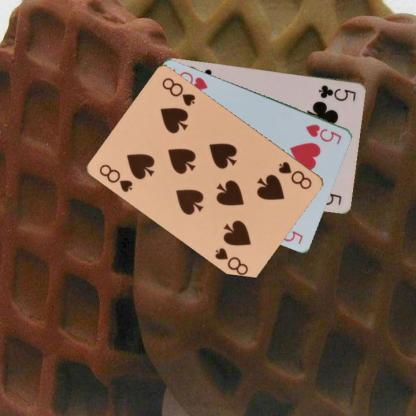5c: (316, 82, 357, 102)
5h: (303, 121, 344, 146)
8s: (276, 158, 314, 191), (96, 161, 134, 194)
